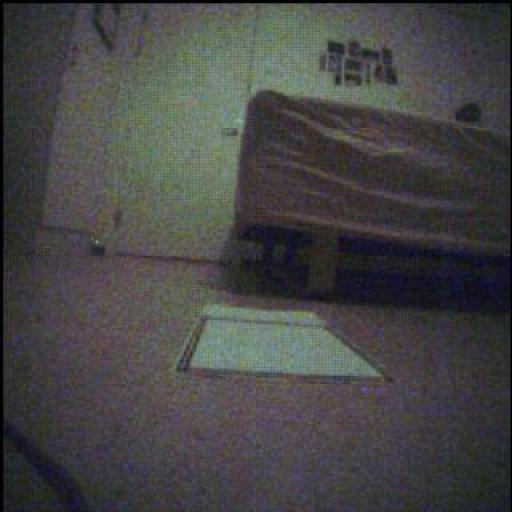pad: (177, 307, 390, 384)
